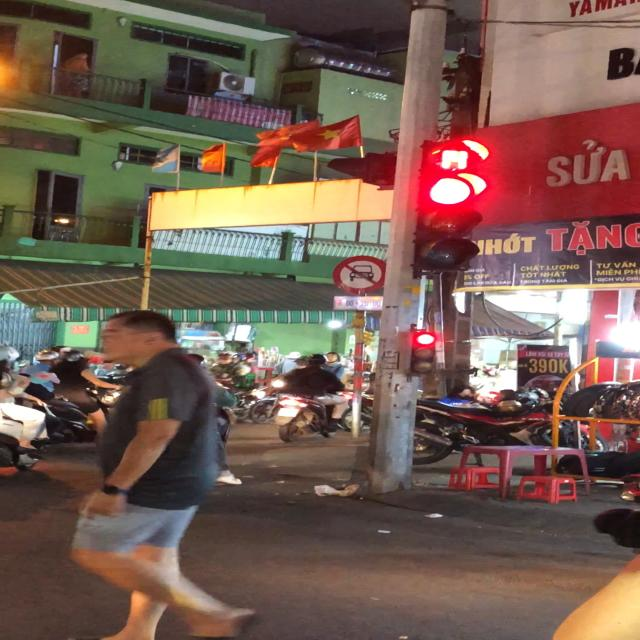Bien bao cam xe oto: (332, 254, 389, 296)
